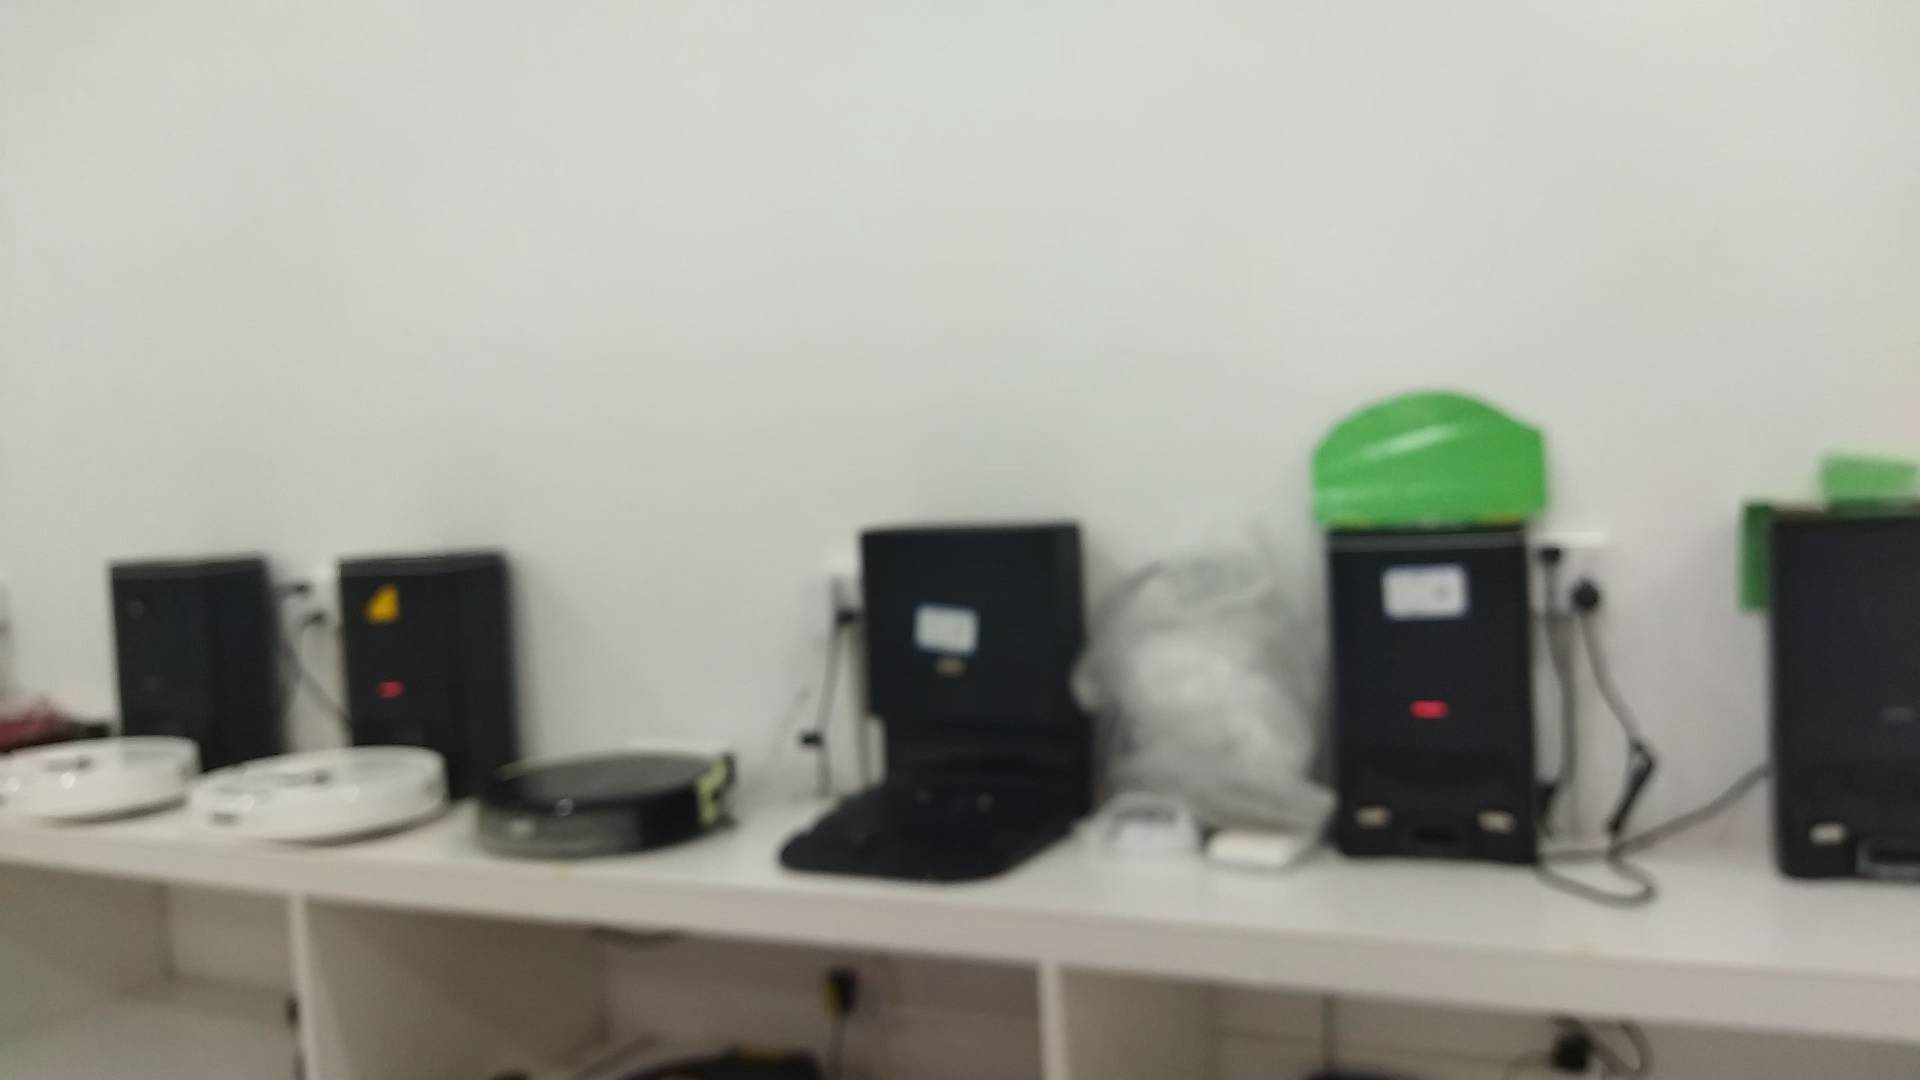dust collecting barrel: (779, 522, 1091, 885), (1328, 524, 1545, 868), (1771, 502, 1920, 890), (342, 546, 516, 790), (113, 556, 280, 775)
